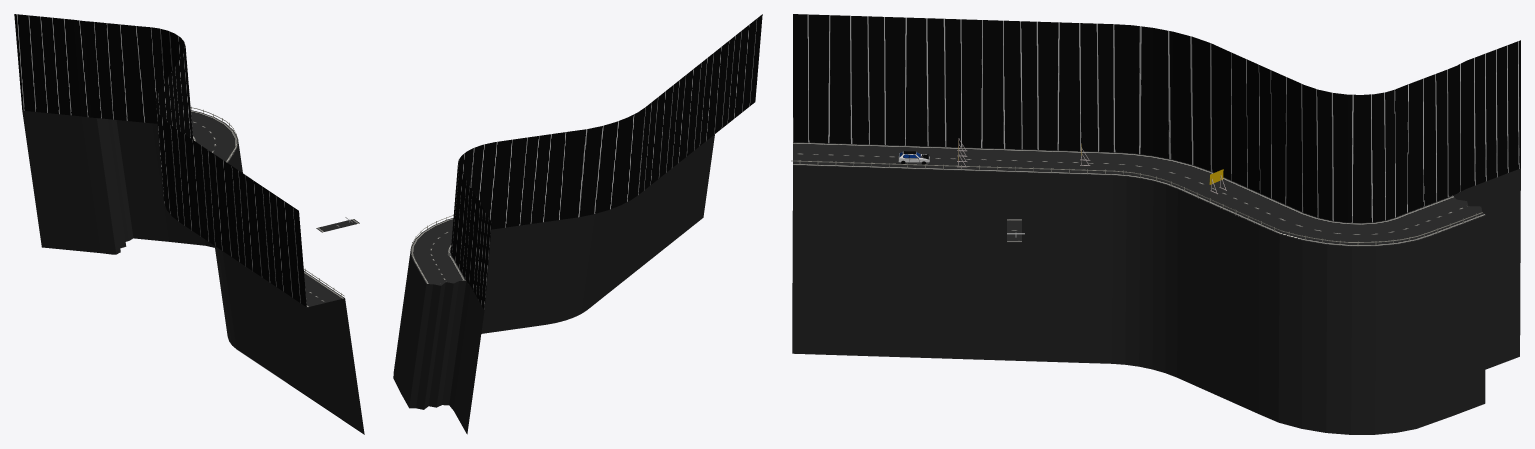
Rendered from road_near_cliff.glb.
The picture shows the model from 3 angles, left to right: view 1: azimuth 30°, elevation 25°; view 2: azimuth 150°, elevation 25°; view 3: azimuth 270°, elevation 25°; orthographic projection. The views are drawn at different scales.
Visible parts, largest first — view 1: hill, hill_wall, road; view 2: hill, hill_wall, road; view 3: hill, hill_wall, road, rail.
Part boxes in pixels (<box>): hill: <box>22,110,364,434</box>; hill_wall: <box>14,14,306,307</box>; road: <box>191,110,344,307</box>; hill: <box>393,134,714,434</box>; hill_wall: <box>450,14,762,310</box>; road: <box>410,218,465,285</box>; hill: <box>792,165,1520,434</box>; hill_wall: <box>793,14,1520,222</box>; road: <box>793,142,1485,246</box>; rail: <box>791,160,1482,245</box>.
Size of what is drawn, in the model's own units: 32 by 46.49 by 95.45.
8 materials, 8 textured.
